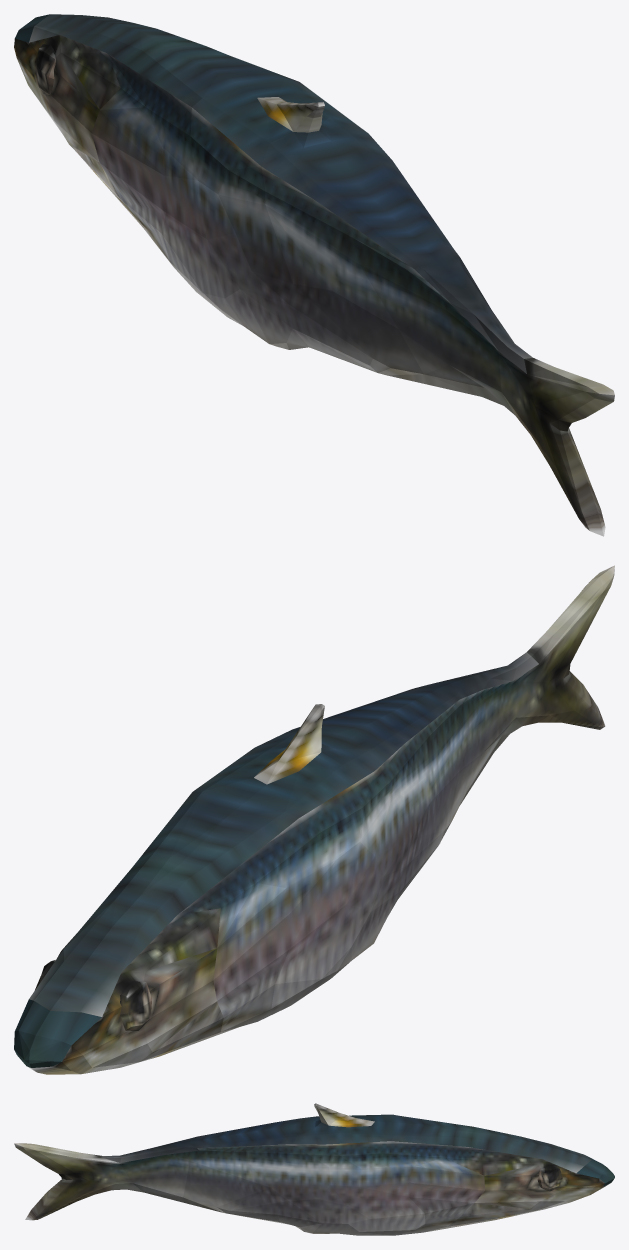
Rendered from sardine_LOD1.glb.
3 renders of one model, top to bottom at view 1: azimuth 30°, elevation 25°; view 2: azimuth 150°, elevation 25°; view 3: azimuth 270°, elevation 25°, orthographic. The views are drawn at different scales.
Visible parts, largest first — view 1: sardine; view 2: sardine; view 3: sardine.
Part boxes in pixels (bbox=[...]): sardine: bbox=[14, 14, 614, 536]; sardine: bbox=[14, 565, 614, 1074]; sardine: bbox=[14, 1103, 614, 1235].
Bounding box in the file's own units: 0.2541 × 0.4185 × 1.82.
Materials: 1 (1 with a texture image).
